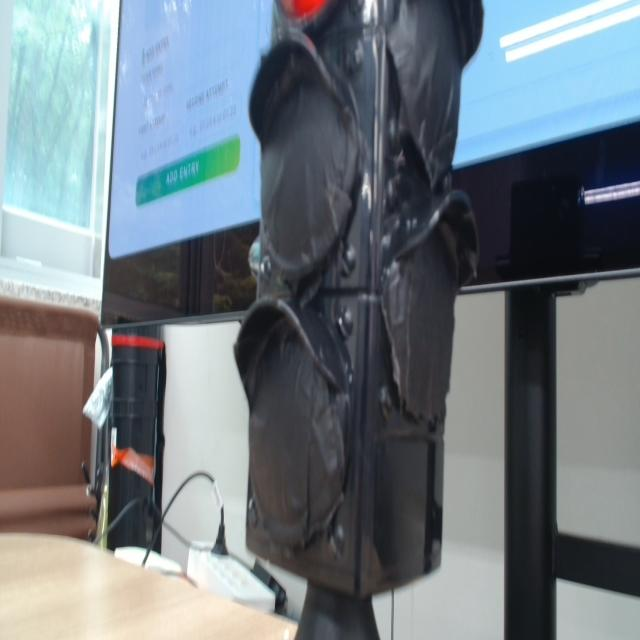red_light: (280, 0, 329, 19)
